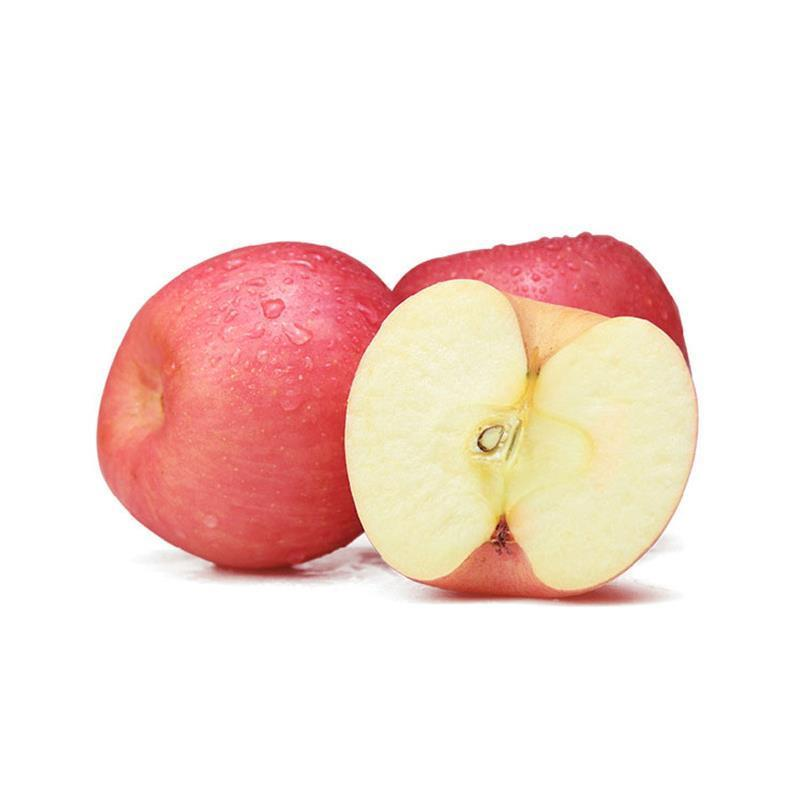apple: (94, 243, 407, 578)
